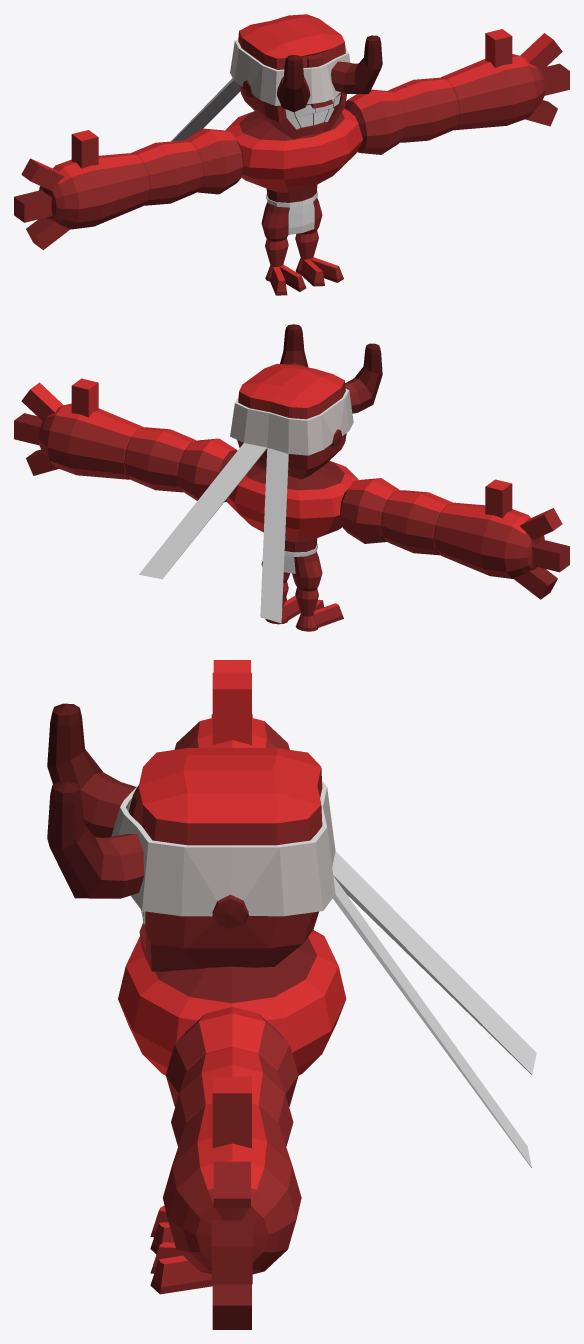
Rendered from AIDAN PRONTO.fbx.
3 renders of one model, top to bottom at view 1: azimuth 30°, elevation 25°; view 2: azimuth 150°, elevation 25°; view 3: azimuth 270°, elevation 25°, orthographic. The views are drawn at different scales.
Parts seen in each view (by area): view 1: AIDAN, AIDAN.001, AIDAN.002; view 2: AIDAN, AIDAN.001, AIDAN.002; view 3: AIDAN, AIDAN.002, AIDAN.001.
Part boxes in pixels (x1,y1,x2,y2): AIDAN: (171, 14, 382, 295); AIDAN.001: (14, 128, 243, 250); AIDAN.002: (344, 29, 569, 154); AIDAN: (139, 324, 382, 631); AIDAN.001: (340, 478, 569, 599); AIDAN.002: (14, 378, 237, 502); AIDAN: (47, 703, 536, 1294); AIDAN.002: (163, 1007, 301, 1329); AIDAN.001: (174, 660, 289, 749).
Bounding box in the file's own units: 530 × 241 × 206.
1 material, 1 textured.
